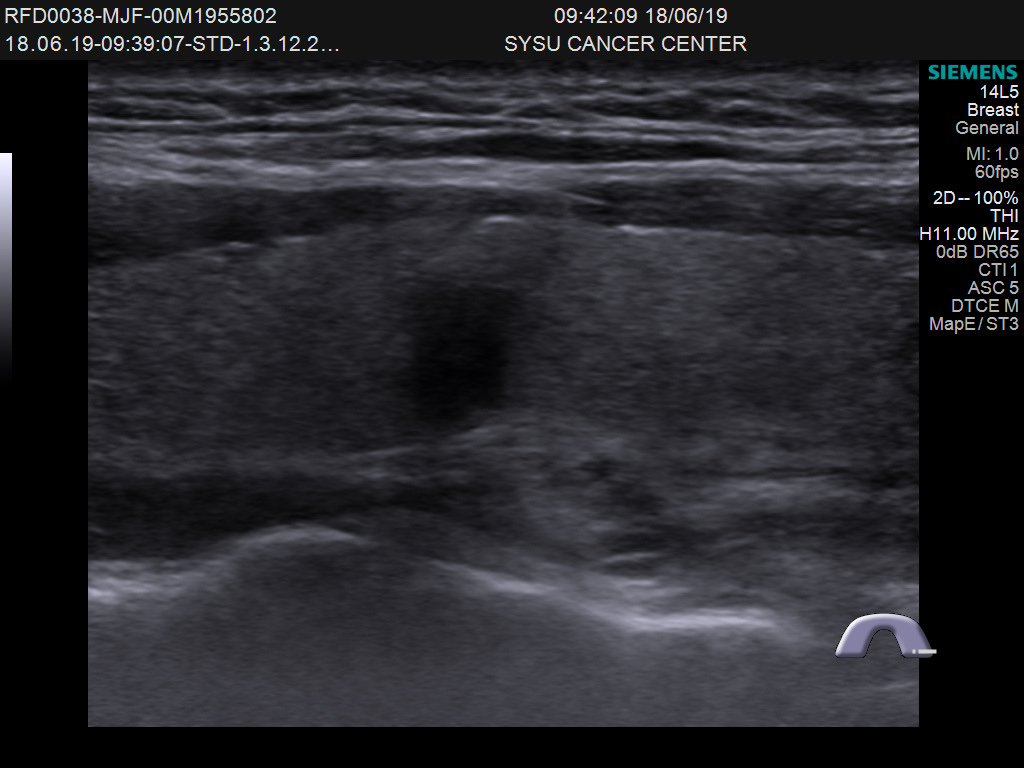Thyroid_tumor: (394, 261, 551, 447)
